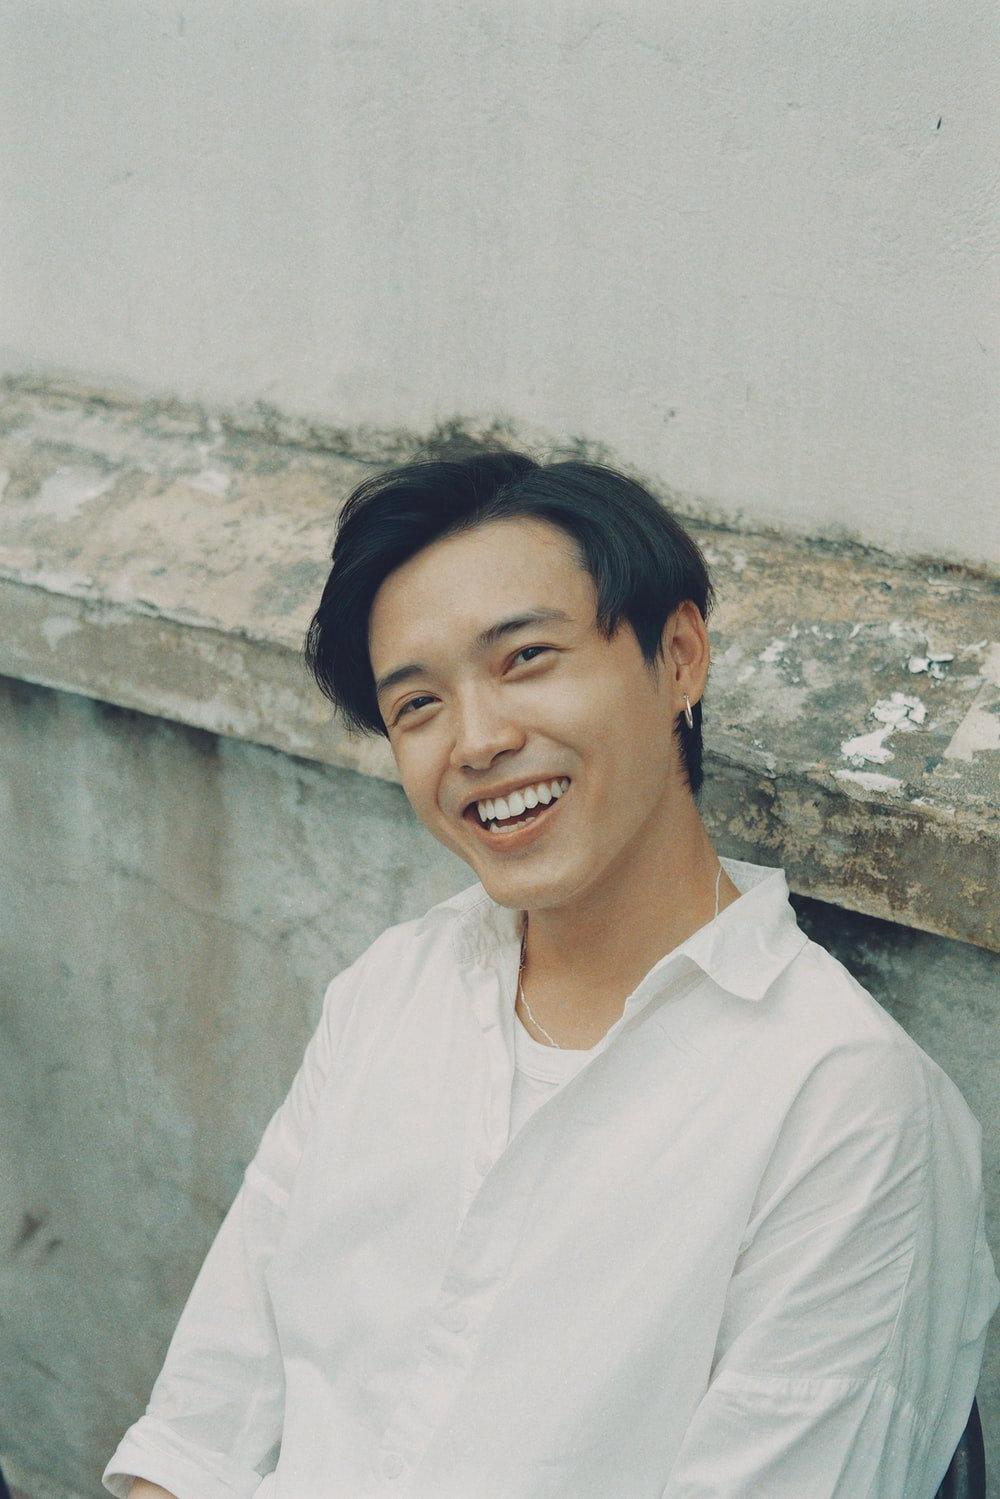Sober: (371, 561, 653, 909)
